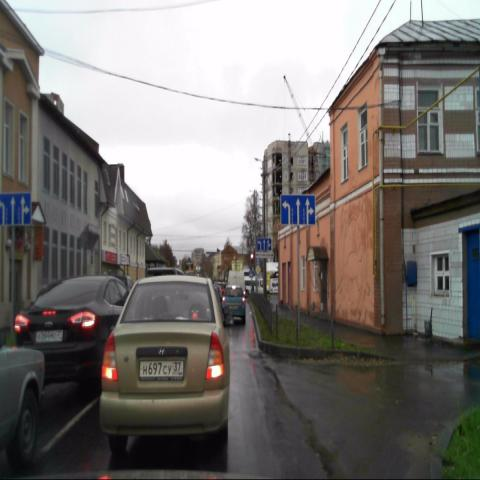5_15_1: (280, 194, 315, 225)
